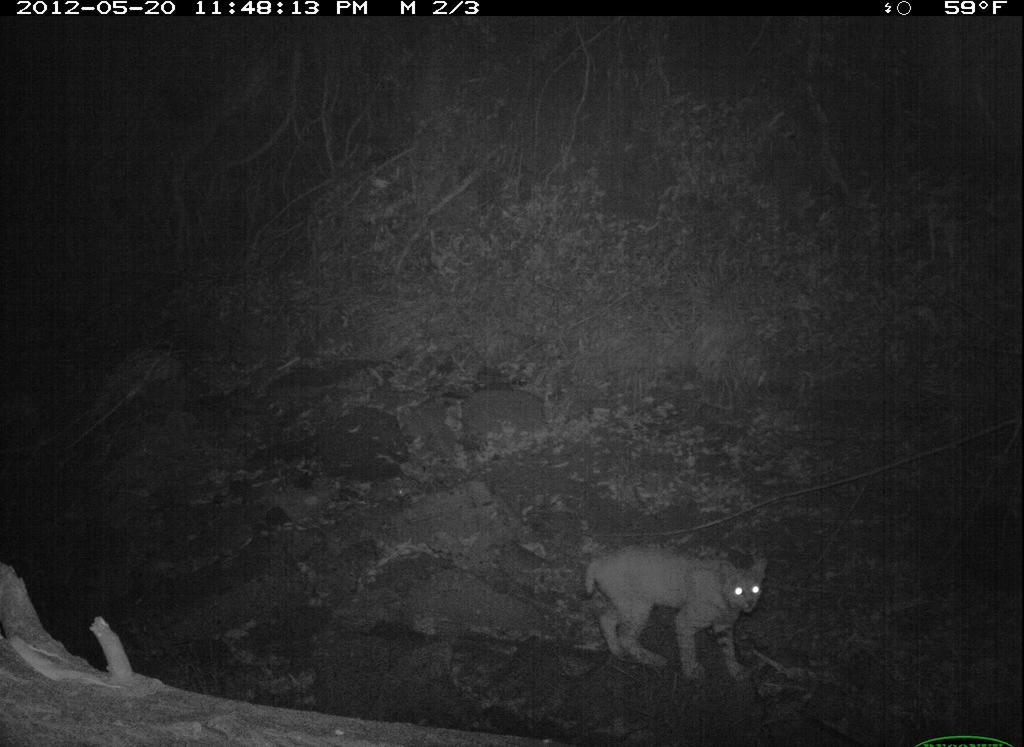bobcat: (564, 528, 794, 693)
